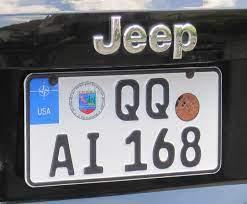1: (121, 127, 149, 173)
6: (151, 127, 176, 171)
8: (178, 124, 203, 169)
A: (47, 131, 77, 177)
I: (82, 129, 106, 176)
Q: (113, 77, 141, 122), (144, 76, 171, 121)
